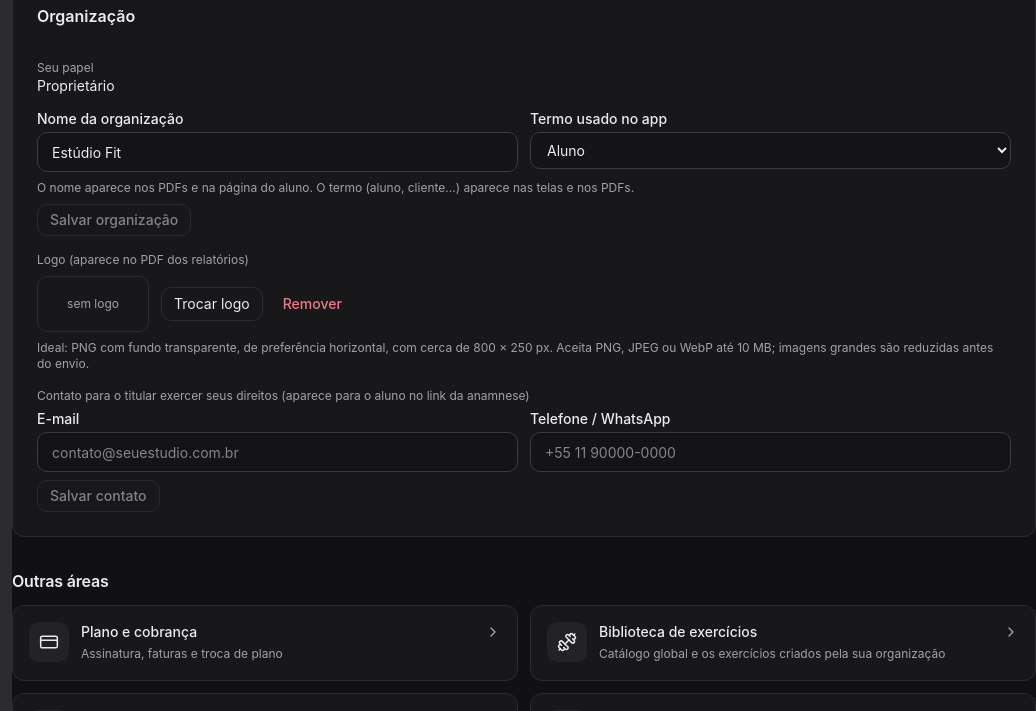
Scenario: Ajustes: contato do controlador › não diz "Contato salvo" quando a policy recusa em silêncio (0 linhas)
This screenshot has width=1036, height=711.
(page scrolled)
Type "contato@estudio.test" into the field labelled "E-mail" at x=278, y=452, box [37,432,518,472]
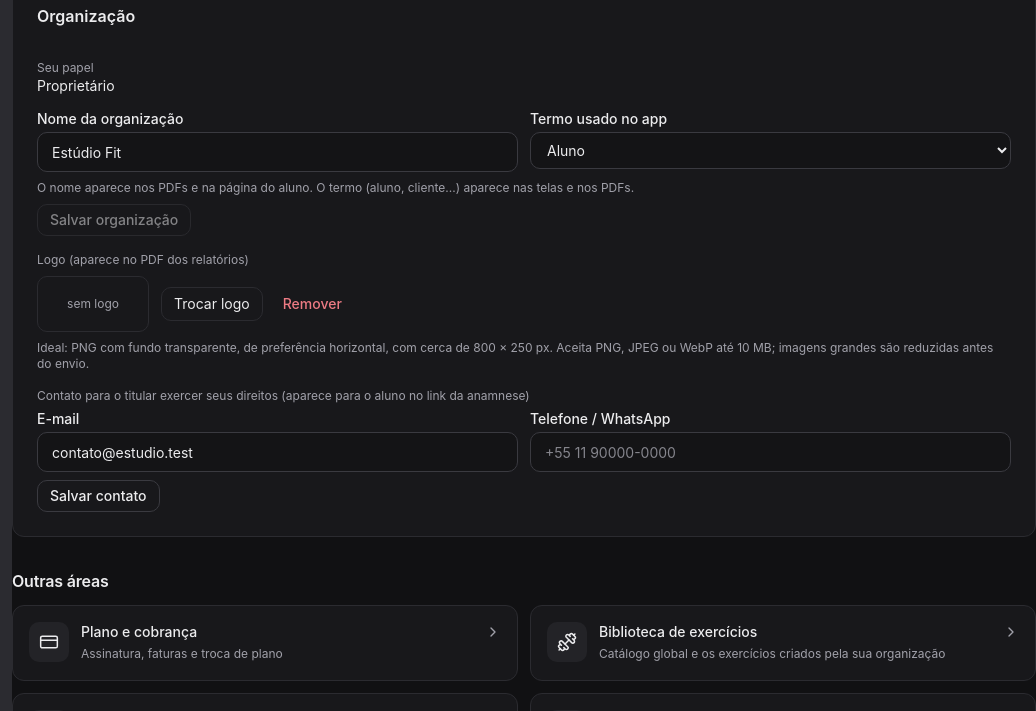
Click the button "Salvar contato" at x=98, y=496, box [37,480,160,512]
(page scrolled)
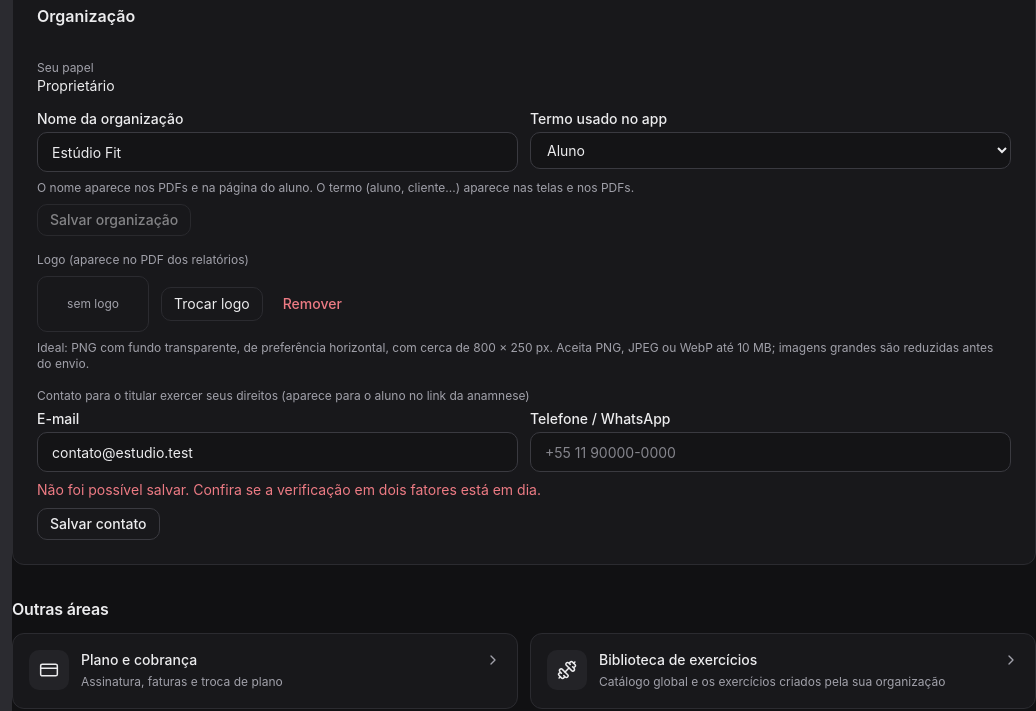
Result: the message shows "Não foi possível salvar" at [37,481,541,498]
